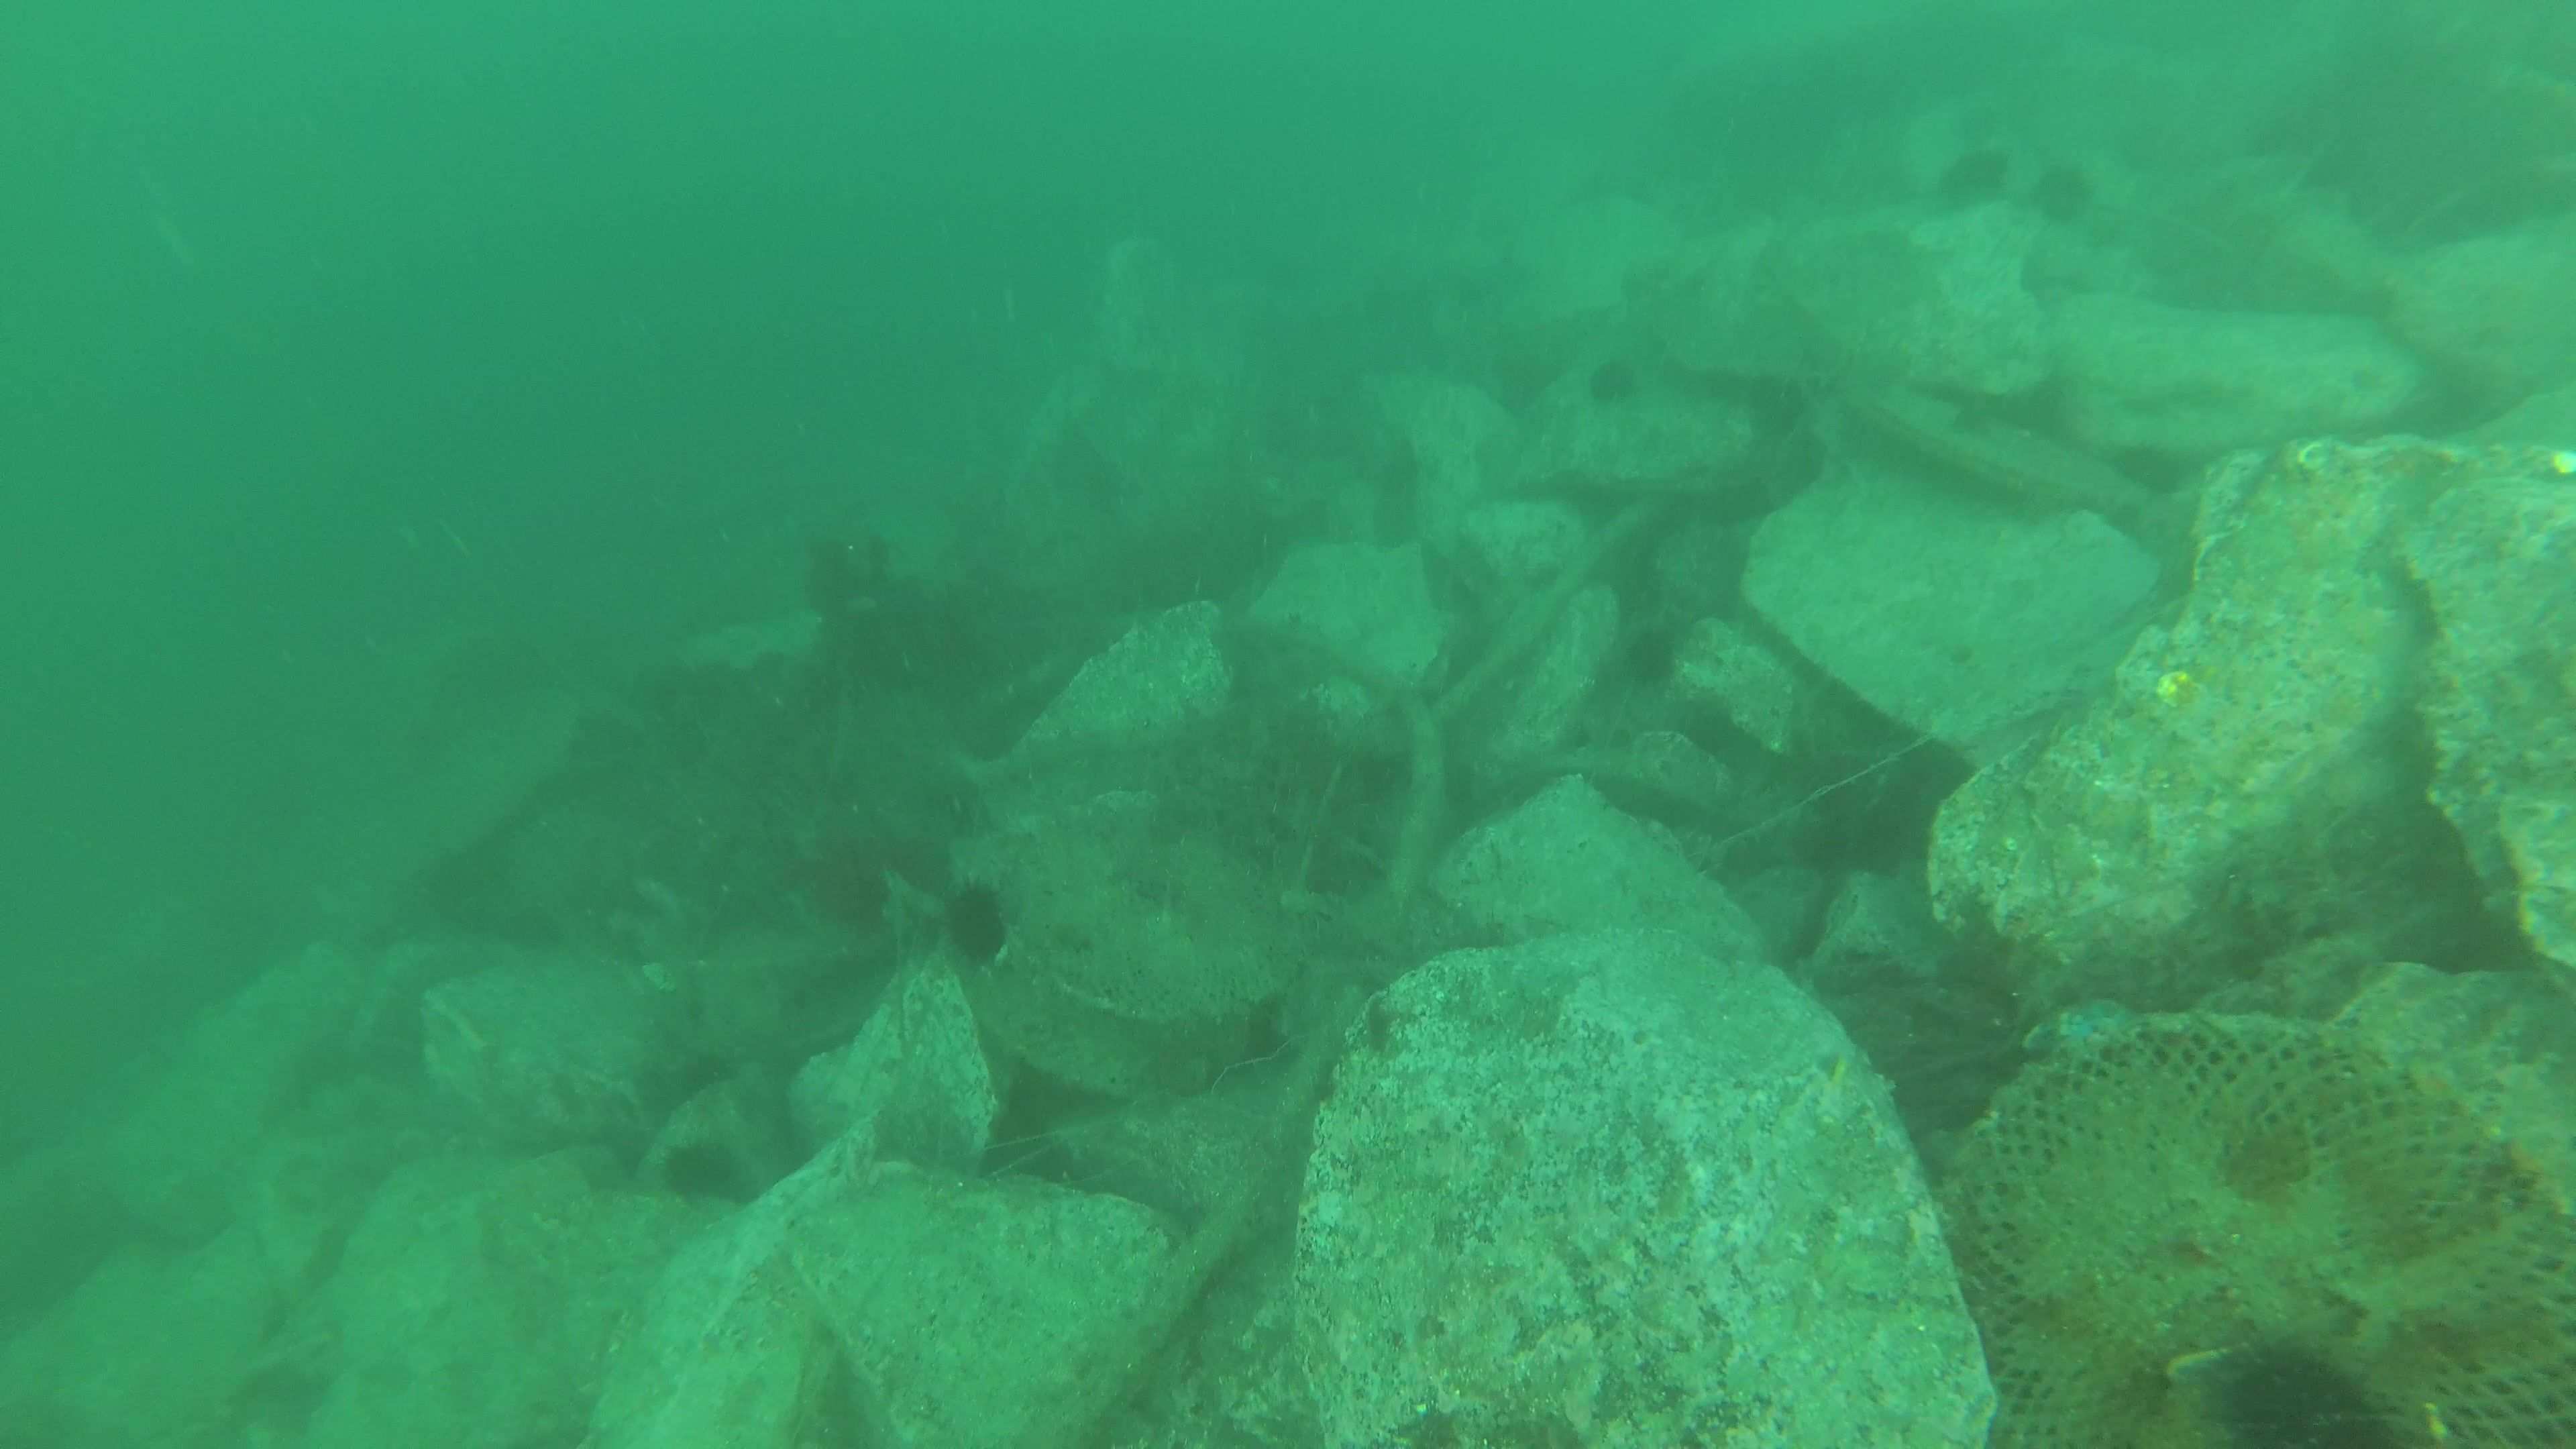echinus: (2220, 1332, 2396, 1449), (929, 862, 1023, 975), (653, 1136, 750, 1214), (1622, 619, 1684, 699)
